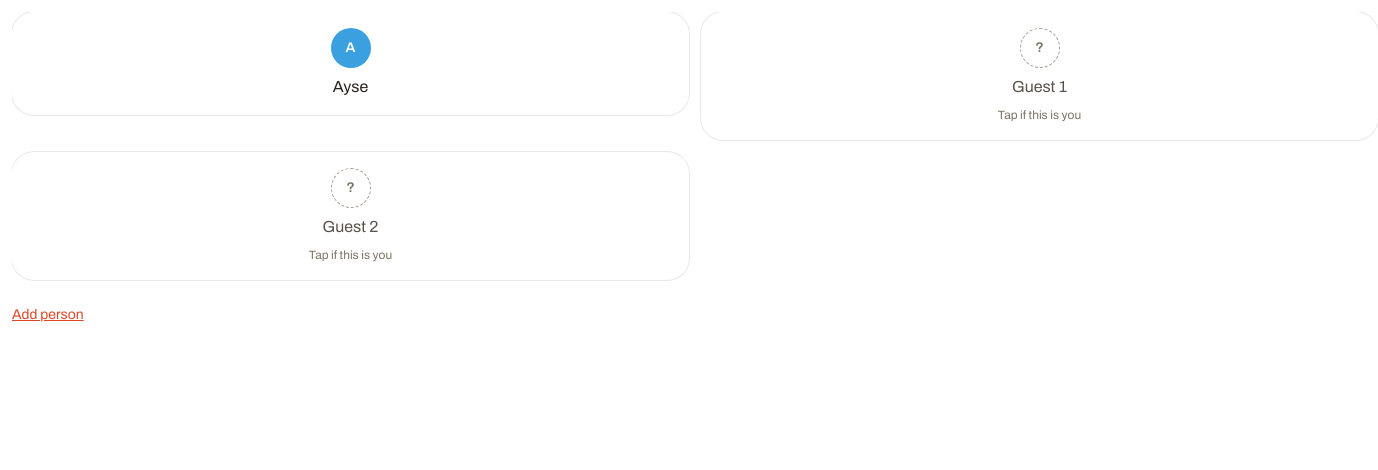
PersonSlotPicker — v2.1 empty "Guest N" seats › shows "Someone just took that seat" when another phone claimed it first
Click the button with aria-label "Take seat Guest 1": (1040, 76) [701,12,1377,140]
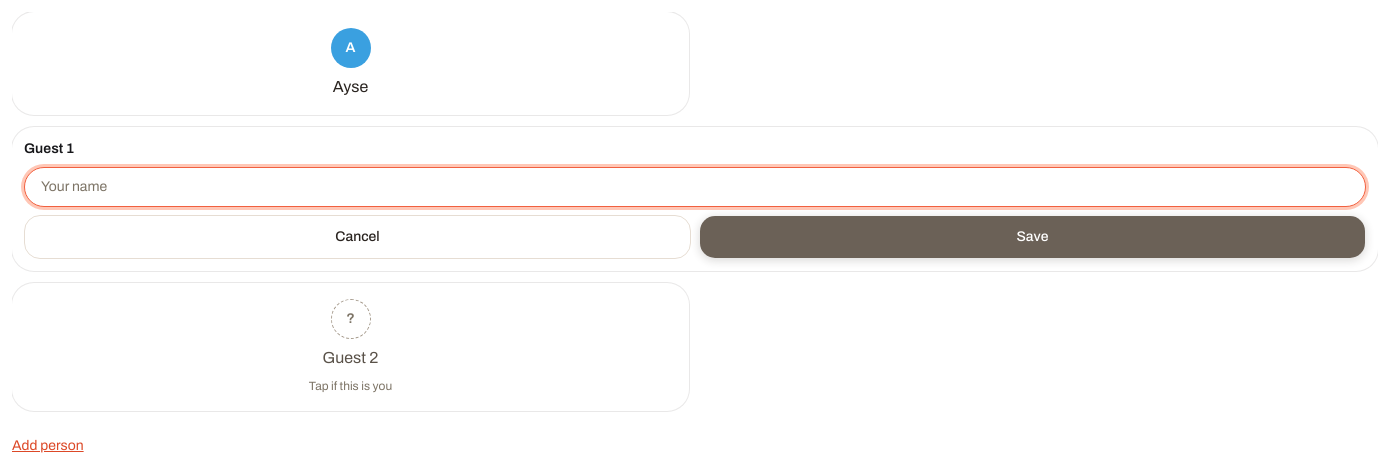
In the field labelled "Your name": (695, 187) [24,167,1366,207], type "Mert"
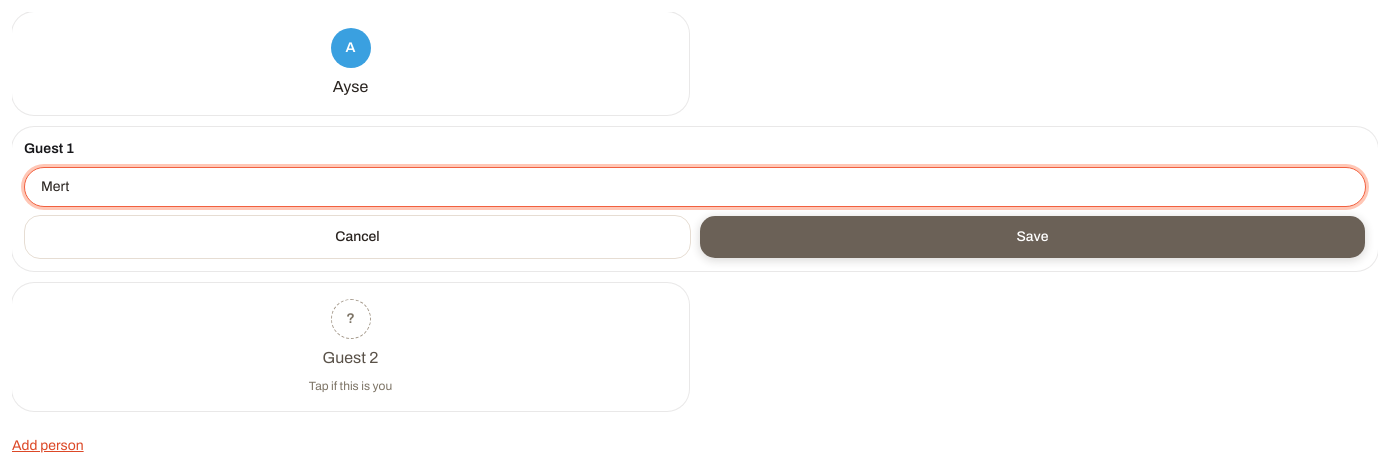
Click the button "Save": (1032, 237) [699,215,1366,259]
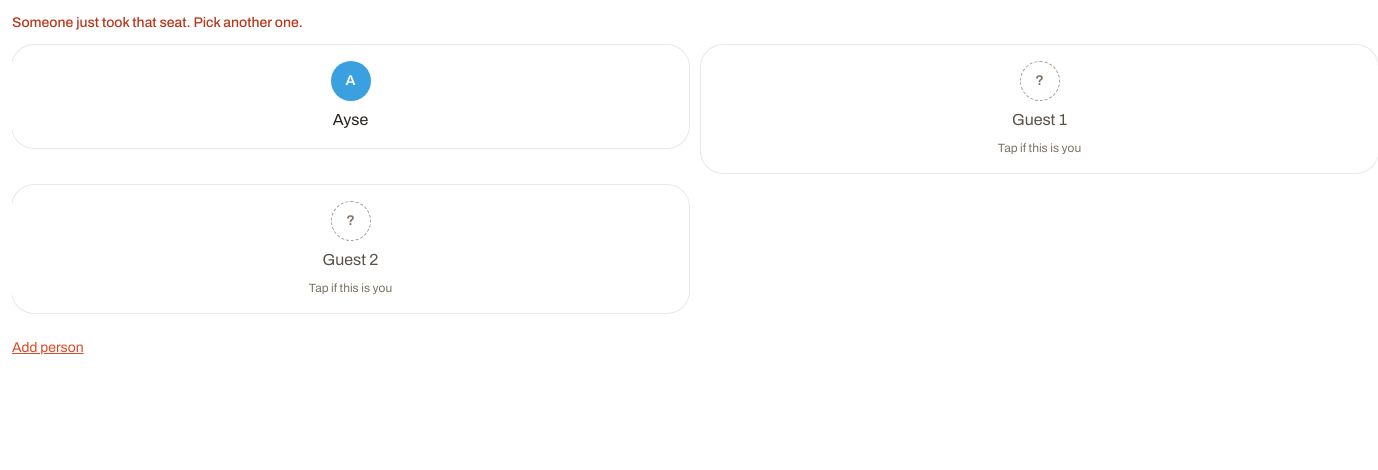
Check: the message with test id "seat-notice" shows "Someone just took that seat", box [12,15,303,30]
